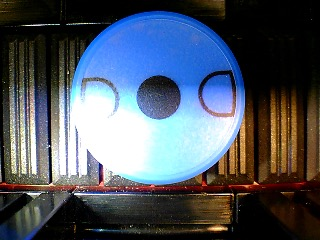BOHOMIPO2: (70, 9, 246, 185)
